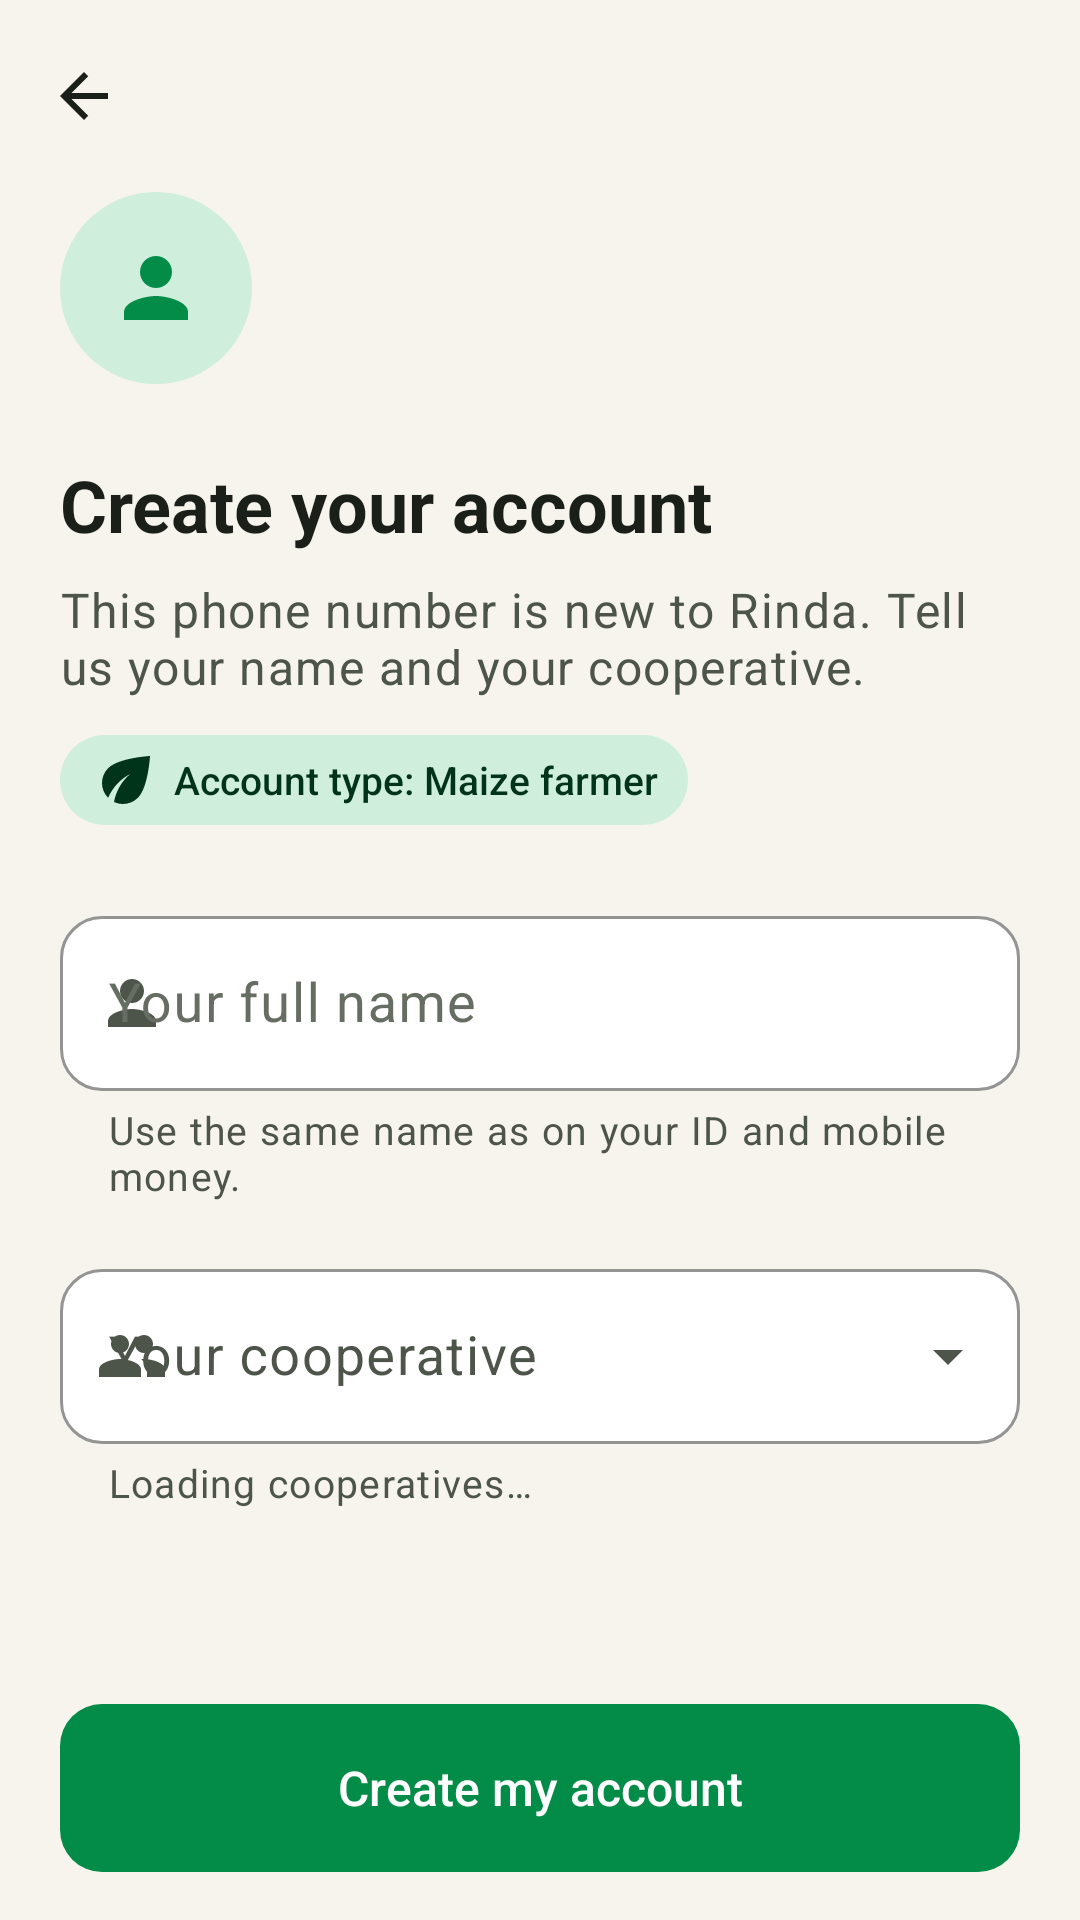

Where to tap for icons on this 1080*1920 app screen, as [x,y]:
profile: [156,288]
